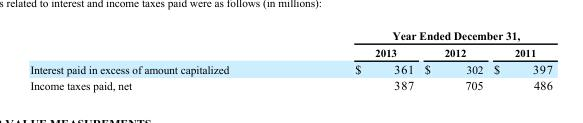table: (29, 28, 551, 91)
table column: (29, 28, 291, 91), (291, 28, 418, 91), (418, 28, 487, 91), (487, 28, 551, 91)
table column header: (29, 28, 551, 60)
table row: (29, 43, 551, 60), (29, 60, 551, 76), (29, 28, 551, 43), (29, 76, 551, 91)
table spanning cell: (291, 28, 551, 43)
